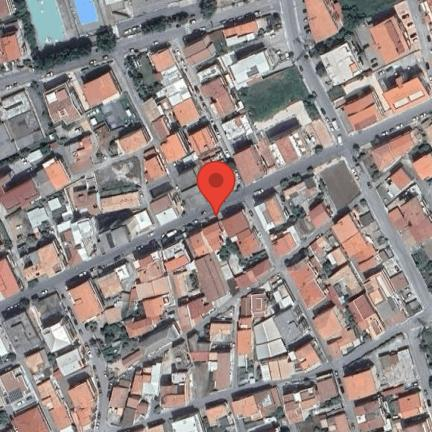area_open: (375, 331, 422, 387), (320, 159, 361, 216), (100, 0, 193, 25), (232, 29, 292, 65), (354, 199, 391, 255), (5, 308, 42, 361), (93, 152, 142, 188), (100, 93, 139, 128), (161, 340, 190, 377), (33, 290, 65, 321), (293, 191, 318, 211), (245, 418, 270, 431), (3, 295, 28, 307), (148, 404, 166, 418), (105, 296, 113, 308)
built: (145, 48, 239, 199), (23, 208, 156, 282), (124, 239, 193, 338), (25, 348, 99, 432), (254, 98, 335, 168), (218, 110, 283, 190), (330, 210, 394, 286), (193, 255, 280, 303), (184, 206, 264, 258), (101, 359, 160, 428), (281, 374, 350, 432), (362, 268, 425, 330), (288, 234, 336, 313), (0, 87, 46, 163), (309, 305, 361, 359), (69, 276, 123, 327), (259, 342, 323, 383), (235, 294, 269, 371), (366, 12, 413, 66), (388, 192, 432, 249), (225, 47, 278, 93), (382, 70, 430, 118), (371, 128, 422, 173), (341, 85, 389, 132), (0, 169, 44, 218), (70, 186, 141, 216), (197, 74, 238, 124), (189, 349, 235, 393), (231, 385, 282, 424), (78, 68, 123, 112), (37, 310, 78, 357), (333, 39, 367, 93), (303, 0, 344, 44), (43, 82, 84, 126), (31, 156, 74, 197), (389, 392, 430, 432), (148, 187, 187, 229), (179, 296, 218, 336), (223, 15, 268, 48), (342, 364, 382, 400), (254, 317, 287, 359), (155, 371, 193, 407), (137, 324, 179, 356), (321, 43, 350, 88), (348, 397, 385, 432), (8, 403, 51, 431), (115, 124, 152, 156), (181, 34, 217, 66), (364, 295, 388, 343), (329, 264, 363, 297), (96, 267, 131, 299), (0, 30, 27, 67), (206, 400, 237, 432), (263, 192, 290, 228), (145, 148, 169, 188), (305, 200, 335, 232), (0, 256, 21, 301), (282, 175, 318, 201), (174, 265, 201, 299), (8, 150, 43, 176), (382, 168, 413, 197), (271, 231, 299, 258), (413, 147, 432, 185), (27, 209, 51, 239), (347, 293, 364, 335), (171, 412, 206, 432), (272, 282, 296, 311), (71, 138, 94, 165), (0, 322, 15, 359), (208, 323, 234, 343), (325, 285, 343, 310), (123, 348, 145, 368), (328, 247, 347, 263), (422, 122, 432, 147), (132, 425, 165, 432), (48, 199, 64, 212), (1, 0, 11, 17)
vegetation_high: (12, 1, 120, 75), (307, 2, 372, 59), (139, 11, 190, 39), (217, 242, 265, 271), (125, 59, 158, 99), (17, 227, 54, 262), (97, 326, 131, 361), (1, 294, 29, 322), (273, 204, 302, 229), (0, 148, 30, 170), (419, 341, 432, 389), (199, 0, 219, 22), (412, 143, 429, 163), (0, 410, 14, 428), (131, 304, 143, 317), (205, 425, 221, 432), (42, 144, 51, 156), (190, 274, 198, 287)
vegetation_low: (240, 66, 318, 122), (26, 73, 67, 138), (343, 0, 404, 27), (8, 210, 34, 250), (94, 123, 118, 161), (135, 53, 159, 87), (414, 252, 432, 291), (276, 175, 312, 187), (298, 420, 327, 432), (385, 395, 395, 415), (424, 326, 431, 354)
water: (25, 0, 67, 48), (73, 0, 100, 28)
